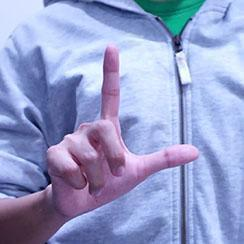L: (3, 30, 214, 236)
